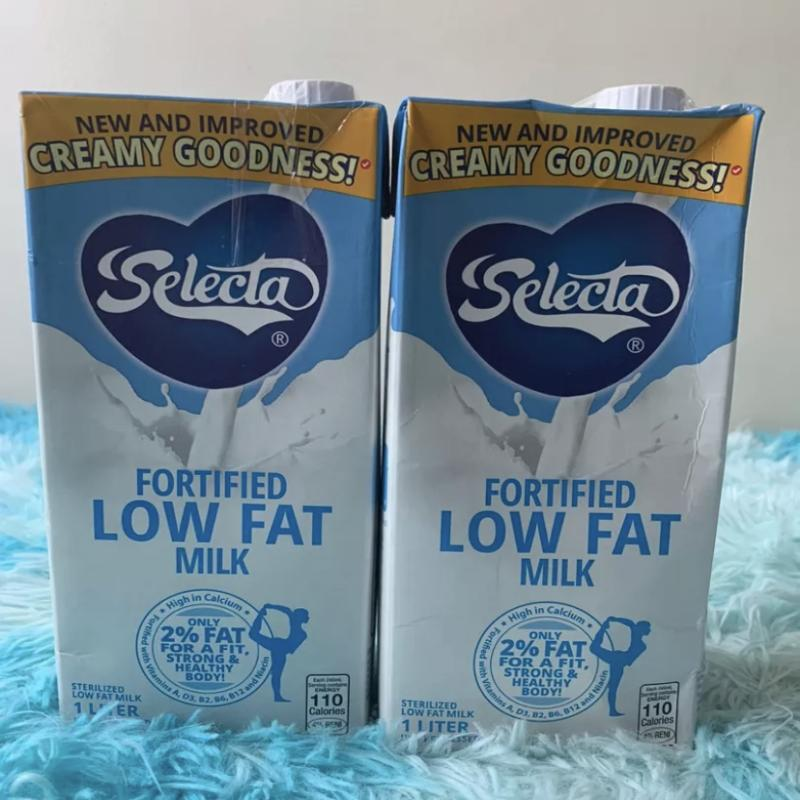uht carton: (376, 84, 764, 753), (15, 81, 399, 737)
